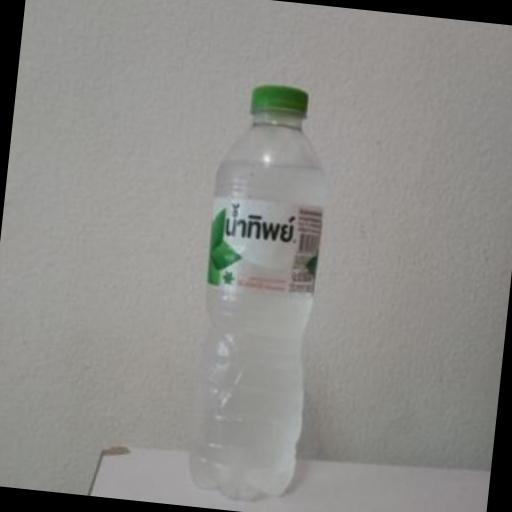Coca: (173, 74, 350, 512)
